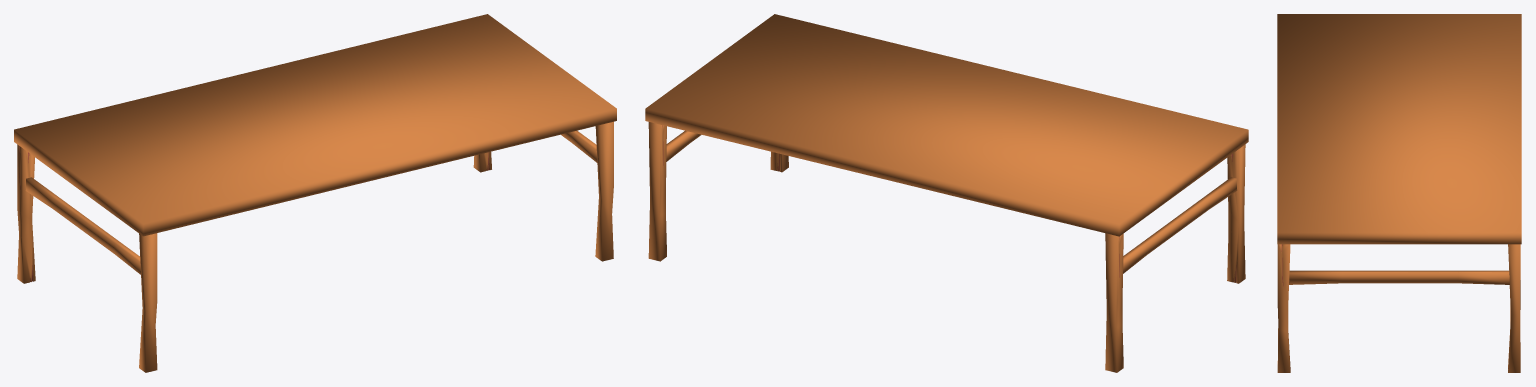
Rendered from dining_table.glb.
3 renders of one model, left to right at view 1: azimuth 30°, elevation 25°; view 2: azimuth 150°, elevation 25°; view 3: azimuth 270°, elevation 25°, orthographic. The views are drawn at different scales.
Parts seen in each view (by area): view 1: Cube.005, Cube.002, Cube.003, Cube.004, Cube.006, Cube.014; view 2: Cube.005, Cube.004, Cube.001, Cube.002, Cube.006, Cube.014; view 3: Cube.005, Cube.014, Cube.003, Cube.001.
Boxes of the visible parts, bbox=[...] form: Cube.005: bbox=[14, 14, 616, 236]; Cube.002: bbox=[139, 233, 157, 372]; Cube.003: bbox=[595, 121, 613, 261]; Cube.004: bbox=[17, 144, 35, 283]; Cube.006: bbox=[25, 177, 140, 274]; Cube.014: bbox=[561, 130, 597, 162]; Cube.005: bbox=[645, 14, 1248, 236]; Cube.004: bbox=[1105, 233, 1123, 372]; Cube.001: bbox=[648, 122, 666, 261]; Cube.002: bbox=[1227, 144, 1245, 283]; Cube.006: bbox=[1123, 177, 1237, 273]; Cube.014: bbox=[666, 130, 701, 161]; Cube.005: bbox=[1277, 14, 1521, 244]; Cube.014: bbox=[1289, 270, 1509, 284]; Cube.003: bbox=[1277, 244, 1290, 372]; Cube.001: bbox=[1508, 244, 1520, 372].
Bounding box in the file's own units: 4.05 × 1.22 × 1.91.
1 material, 1 textured.
